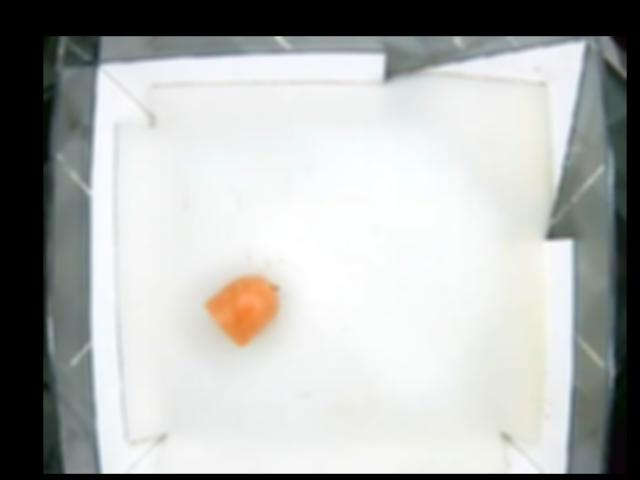Carrot: (203, 275, 278, 344)
